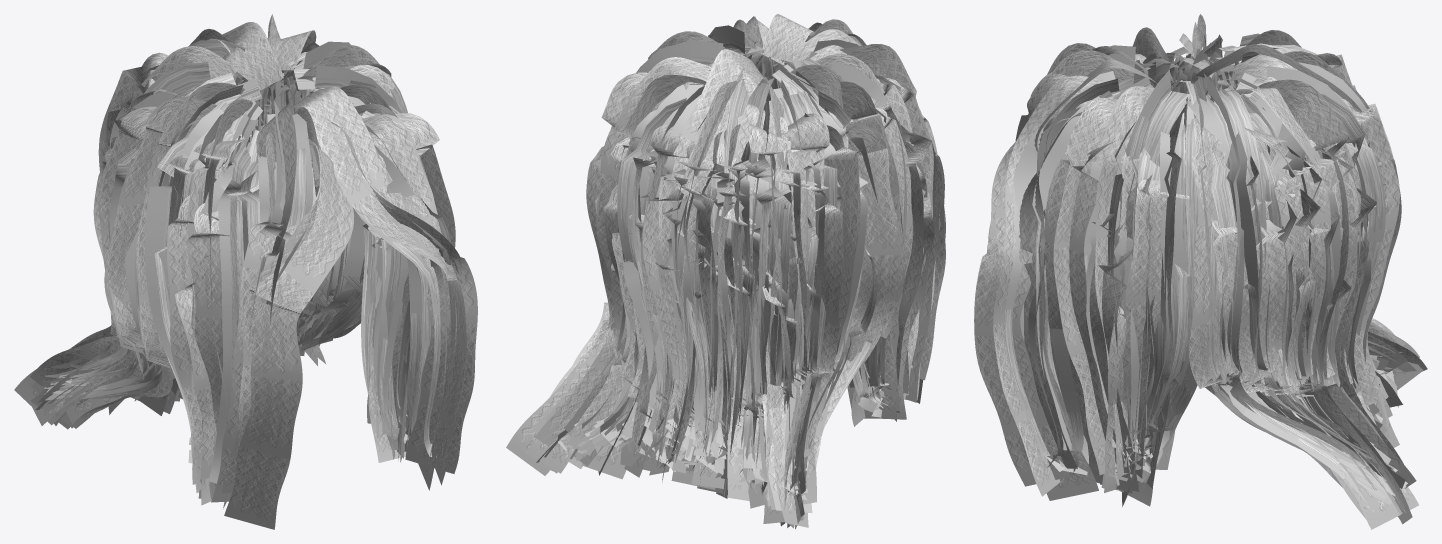
File: NC_Head_Male_Cards3.fbx
3 views of the same model, side by side, from view 1: azimuth 30°, elevation 25°; view 2: azimuth 150°, elevation 25°; view 3: azimuth 270°, elevation 25° (orthographic). The views are drawn at different scales.
Parts seen in each view (by area): view 1: Hair_Curls_Cards, Hair_Locs_Cards, Hair_Curls_Cards_2, Hair_Locs_CapCards, Hair_Twists_Cards; view 2: Hair_Curls_Cards, Hair_Locs_Cards, Hair_Curls_Cards_2, Hair_Locs_CapCards, Hair_Twists_Cards; view 3: Hair_Curls_Cards, Hair_Locs_Cards, Hair_Curls_Cards_2, Hair_Locs_CapCards, Hair_Twists_Cards.
Boxes of the visible parts, box(x1,y1,x2,y2) form: Hair_Curls_Cards: box(31, 14, 477, 529); Hair_Locs_Cards: box(43, 38, 459, 483); Hair_Curls_Cards_2: box(14, 38, 455, 508); Hair_Locs_CapCards: box(40, 171, 410, 469); Hair_Twists_Cards: box(179, 60, 363, 205); Hair_Curls_Cards: box(524, 14, 945, 528); Hair_Locs_Cards: box(541, 25, 934, 494); Hair_Curls_Cards_2: box(506, 19, 945, 529); Hair_Locs_CapCards: box(532, 245, 889, 500); Hair_Twists_Cards: box(707, 41, 829, 152); Hair_Curls_Cards: box(974, 14, 1427, 529); Hair_Locs_Cards: box(1004, 33, 1394, 496); Hair_Curls_Cards_2: box(995, 22, 1419, 524); Hair_Locs_CapCards: box(1108, 251, 1407, 504); Hair_Twists_Cards: box(1092, 49, 1306, 160).
Bounding box in the file's own units: 1.01 × 1.28 × 1.22.
1 material, 1 textured.
